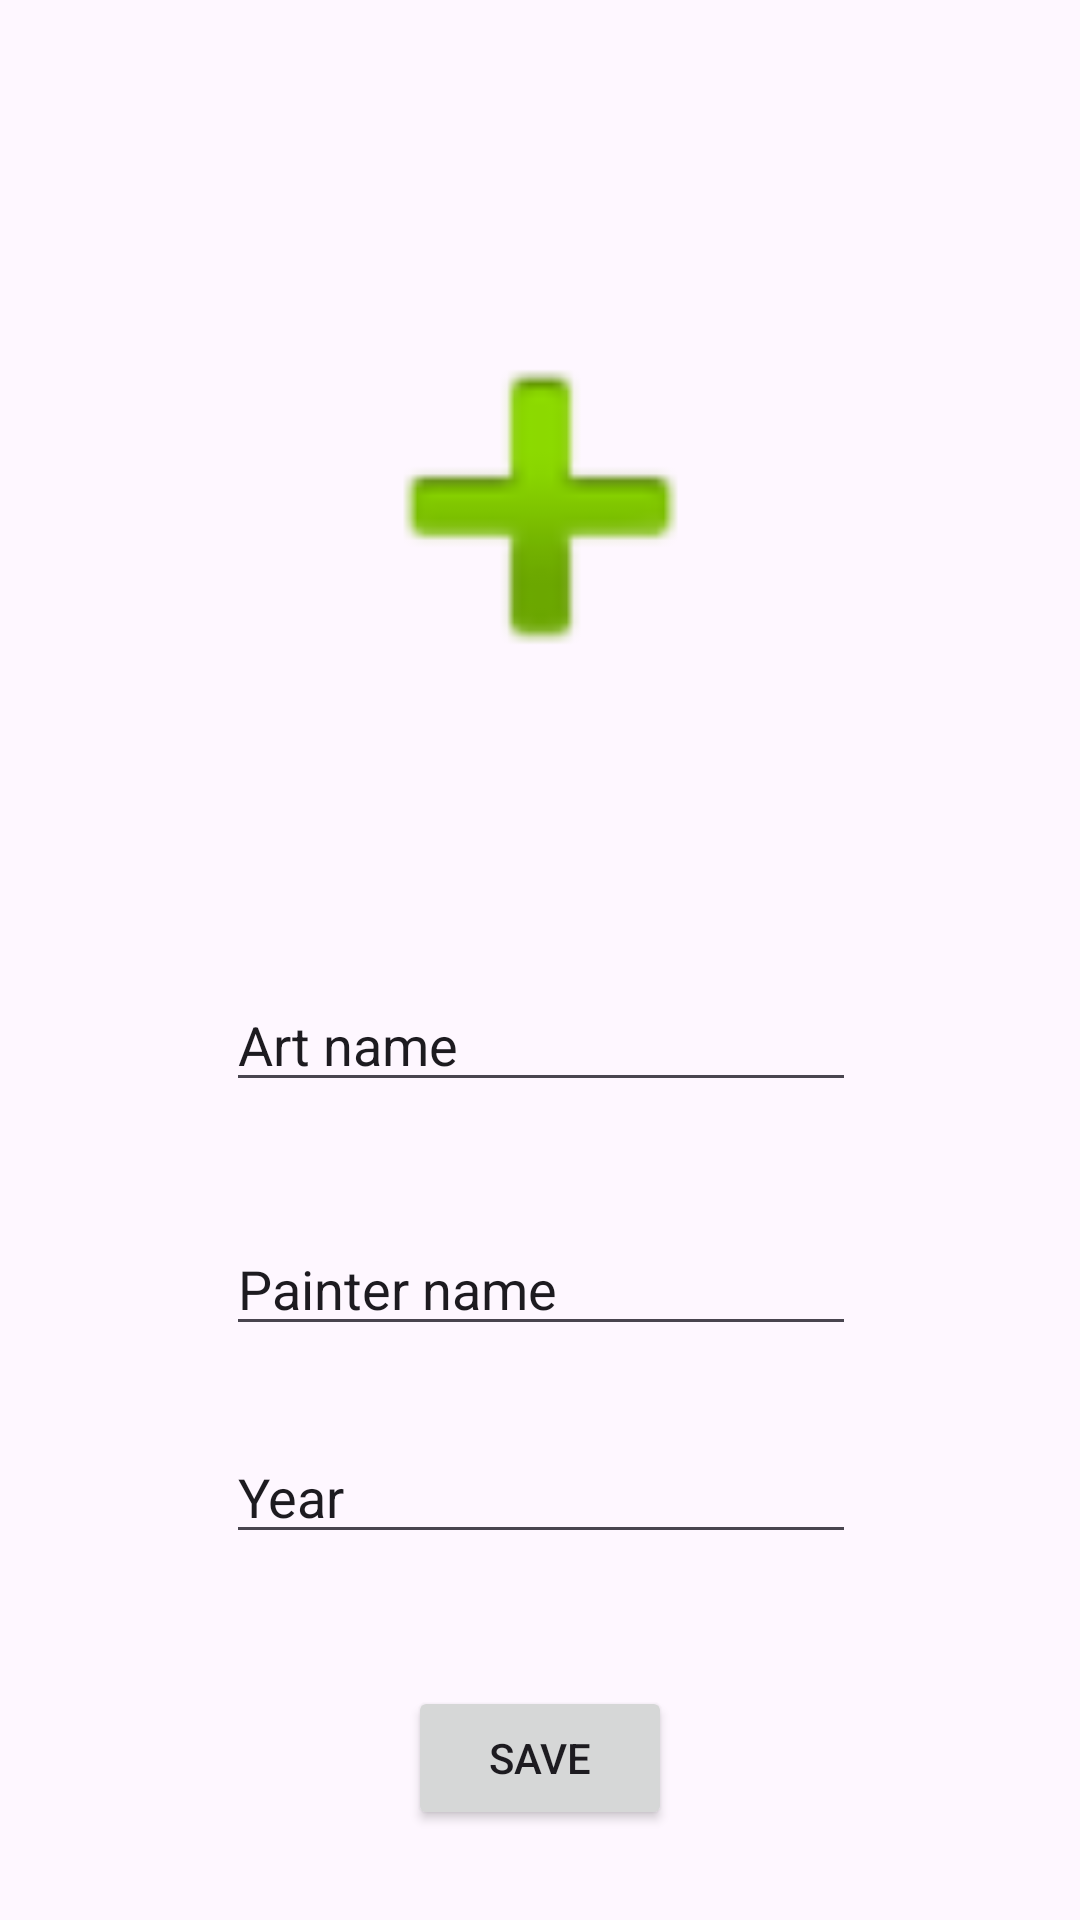

Point at icon controls on the screen. Image size 1080×1920, points as (x,y).
add: (540,506)
